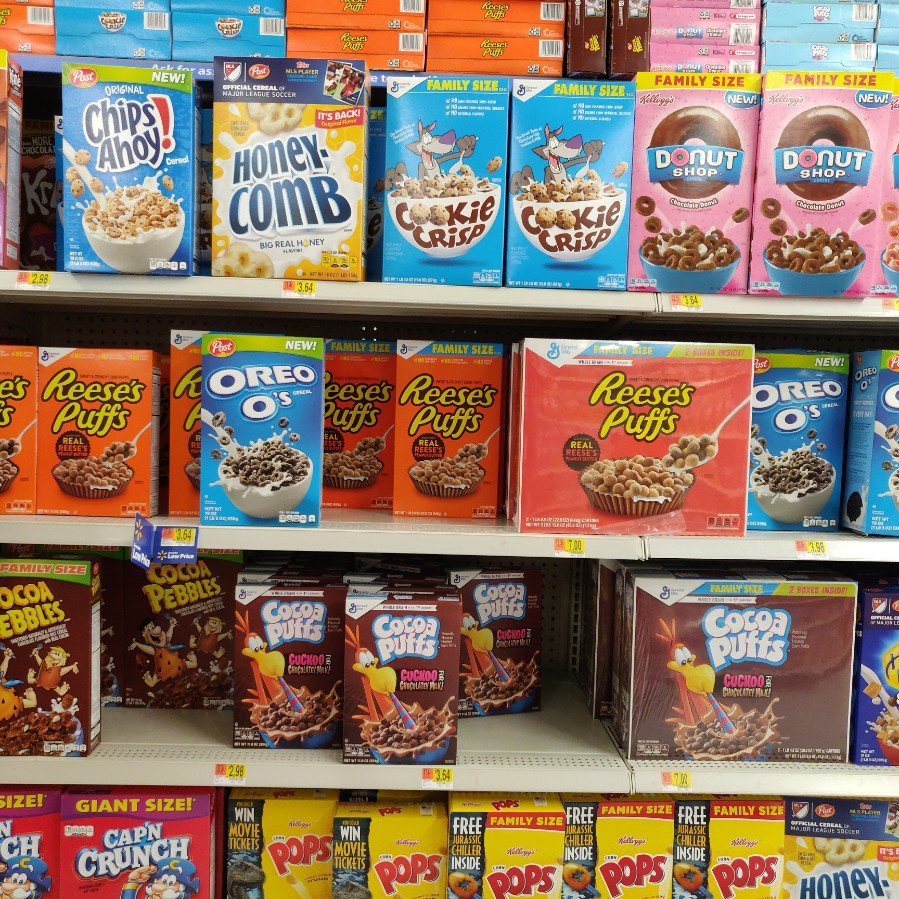Chips Ahoys-565717529: (64, 63, 209, 275)
Honey Comb- 009288857: (212, 60, 367, 279)
Oreo-563424384: (194, 332, 326, 524), (752, 356, 854, 533)
